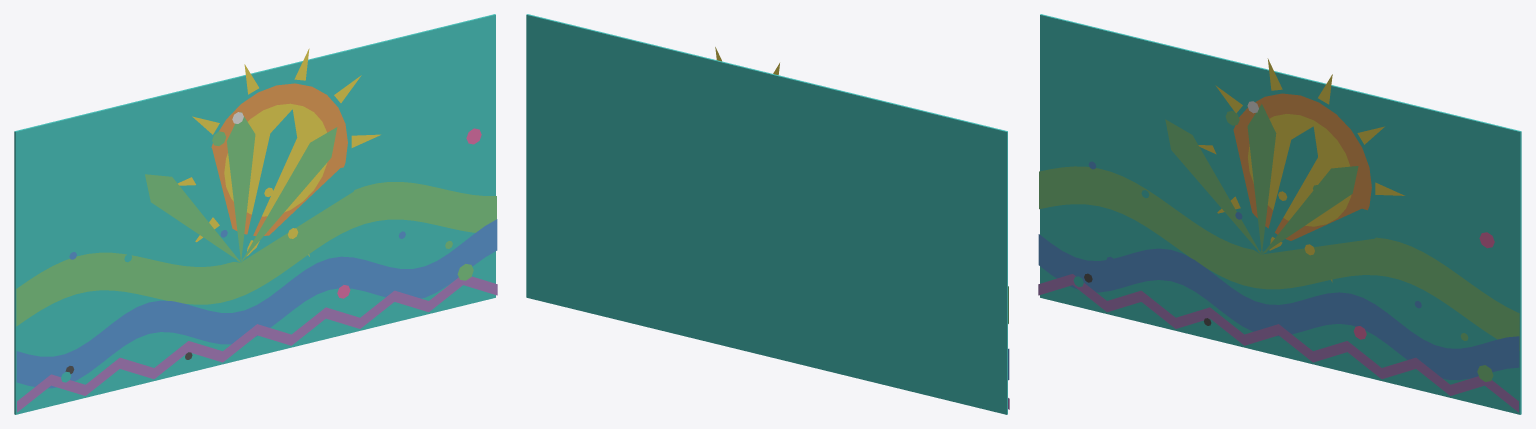
File: fv_mural_b.glb
3 renders of one model, left to right at view 1: azimuth 30°, elevation 25°; view 2: azimuth 150°, elevation 25°; view 3: azimuth 330°, elevation 25°, orthographic.
Parts seen in each view (by area): view 1: fv_mural_b; view 2: fv_mural_b; view 3: fv_mural_b.
Part boxes in pixels (left/top/right/bottom): fv_mural_b: left=14, top=14, right=497, bottom=414; fv_mural_b: left=526, top=14, right=1009, bottom=414; fv_mural_b: left=1038, top=14, right=1521, bottom=414.
Bounding box in the file's own units: 8 × 4.71 × 0.1992.
